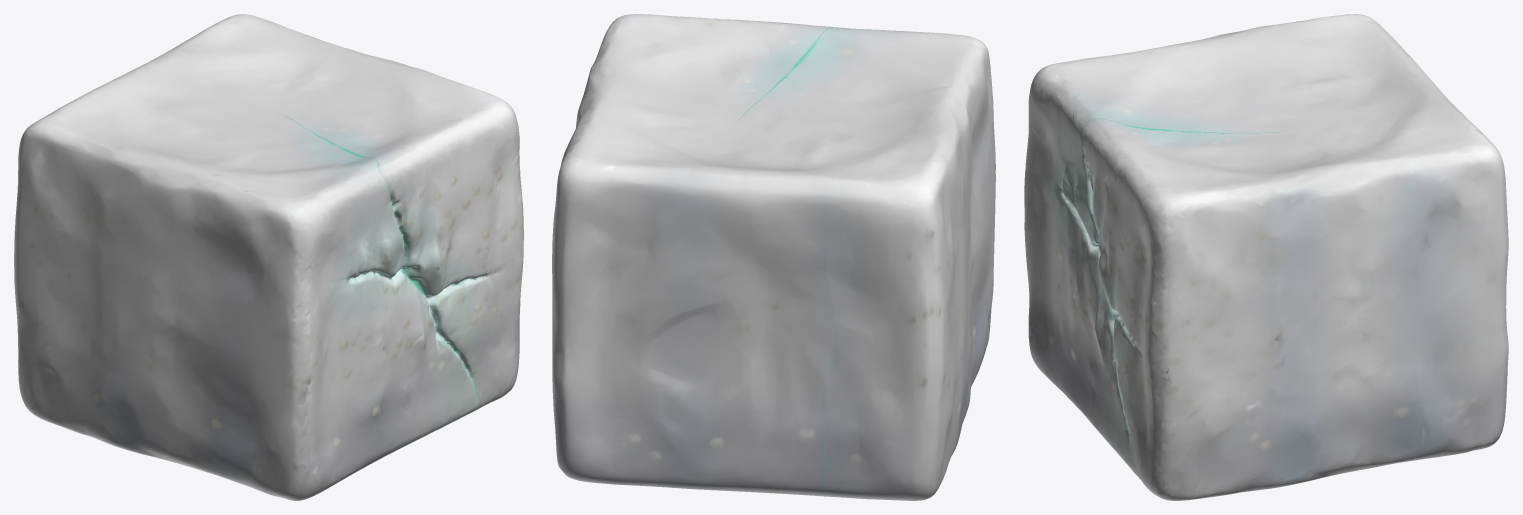
File: healing.glb
3 renders of one model, left to right at view 1: azimuth 30°, elevation 25°; view 2: azimuth 150°, elevation 25°; view 3: azimuth 270°, elevation 25°, orthographic. The views are drawn at different scales.
Parts seen in each view (by area): view 1: Mesh_0; view 2: Mesh_0; view 3: Mesh_0.
Part boxes in pixels (<box>): Mesh_0: <box>14,14,523,500</box>; Mesh_0: <box>552,14,995,500</box>; Mesh_0: <box>1024,14,1508,500</box>.
Bounding box in the file's own units: 1.91 × 1.33 × 1.9.
Materials: 1 (1 with a texture image).
